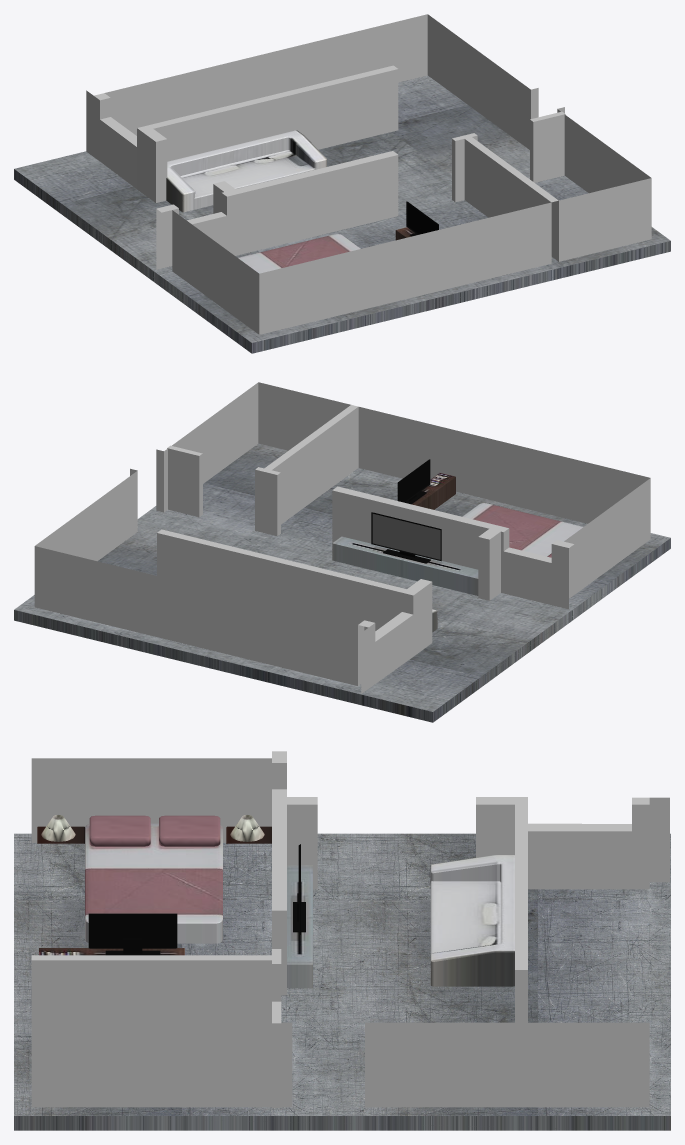
Rendered from apto.glb.
3 views of the same model, one above another, from view 1: azimuth 30°, elevation 25°; view 2: azimuth 150°, elevation 25°; view 3: azimuth 270°, elevation 25° (orthographic). The views are drawn at different scales.
Visible parts, largest first — view 1: Cube.008, Cube.0080, Cube.0081, Cube.0082; view 2: Cube.008, Cube.0080, Cube.0081, Cube.0083, Cube.0082; view 3: Cube.008, Cube.0080, Cube.0081, Cube.0082.
Part boxes in pixels (<box>): Cube.008: <box>86,14,651,334</box>; Cube.0080: <box>14,75,670,353</box>; Cube.0081: <box>166,130,414,273</box>; Cube.0082: <box>406,201,438,236</box>; Cube.008: <box>34,382,650,693</box>; Cube.0080: <box>14,443,670,722</box>; Cube.0081: <box>332,473,582,632</box>; Cube.0083: <box>372,514,440,559</box>; Cube.0082: <box>371,459,441,563</box>; Cube.008: <box>31,751,669,1107</box>; Cube.0080: <box>14,833,670,1130</box>; Cube.0081: <box>37,815,514,988</box>; Cube.0082: <box>88,844,305,955</box>.
Bounding box in the file's own units: 0.381 × 0.0626 × 0.3748.
5 materials, 2 textured.
